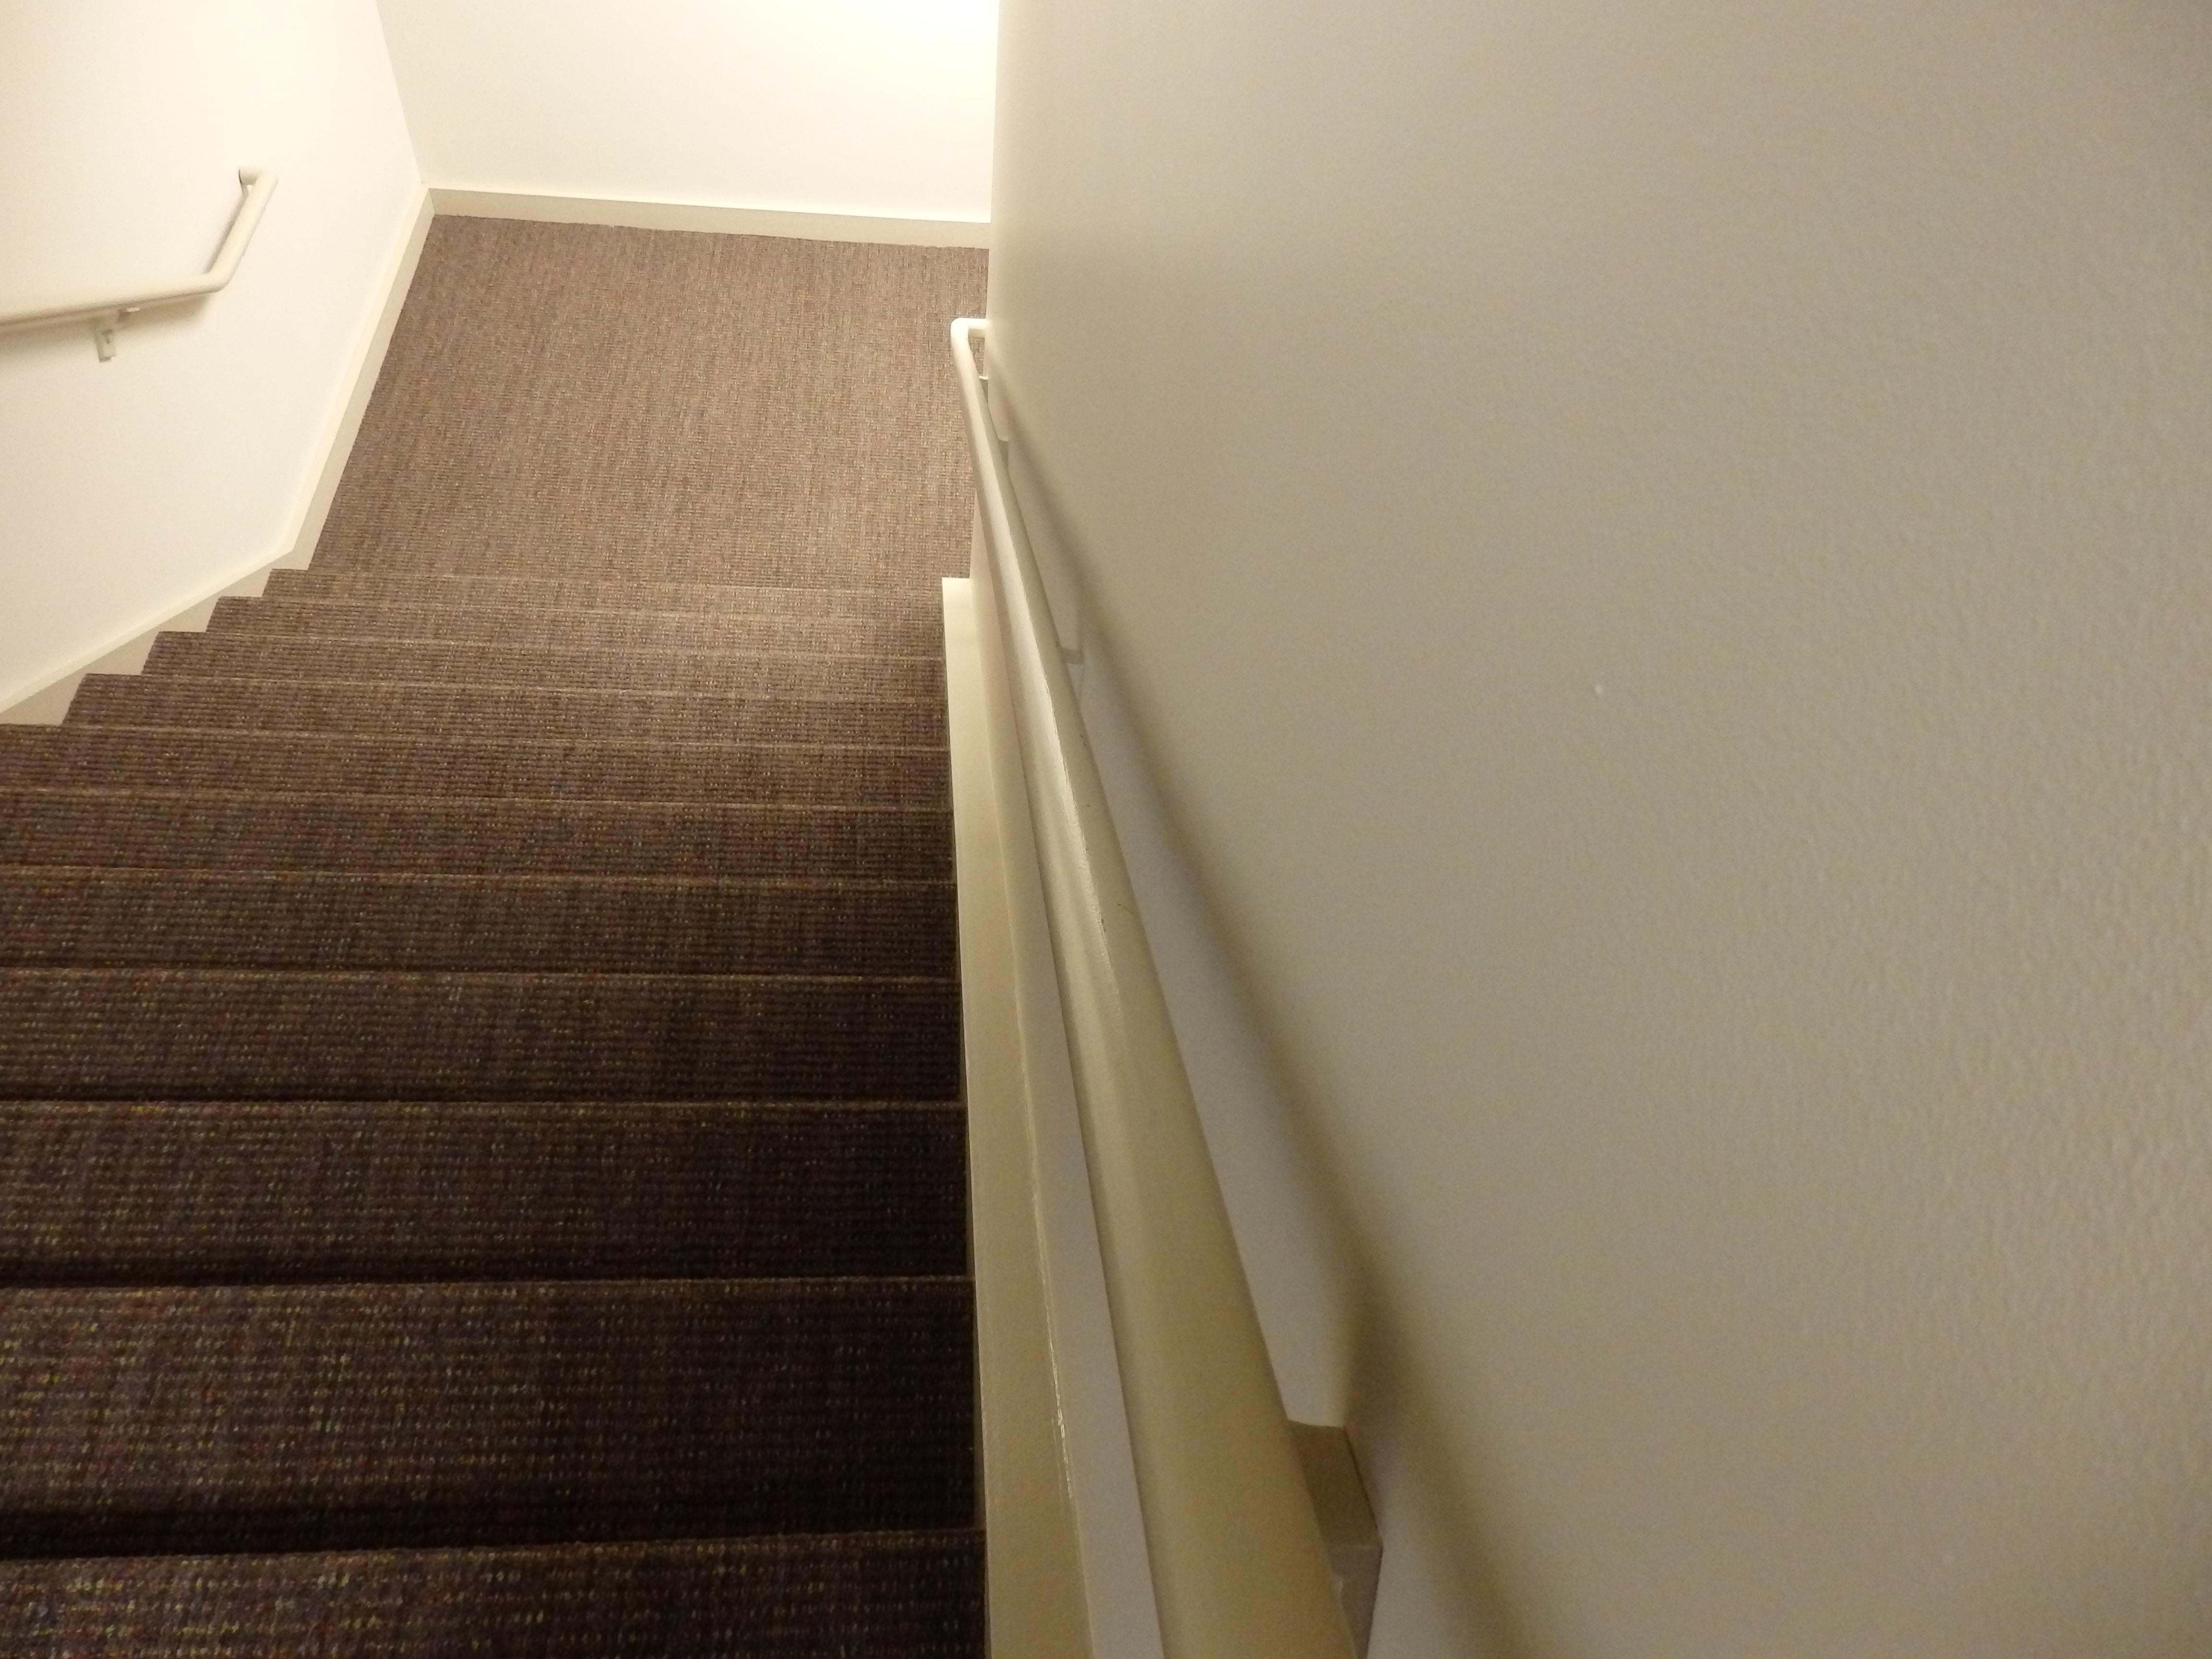stairs_down: (26, 507, 948, 1582)
